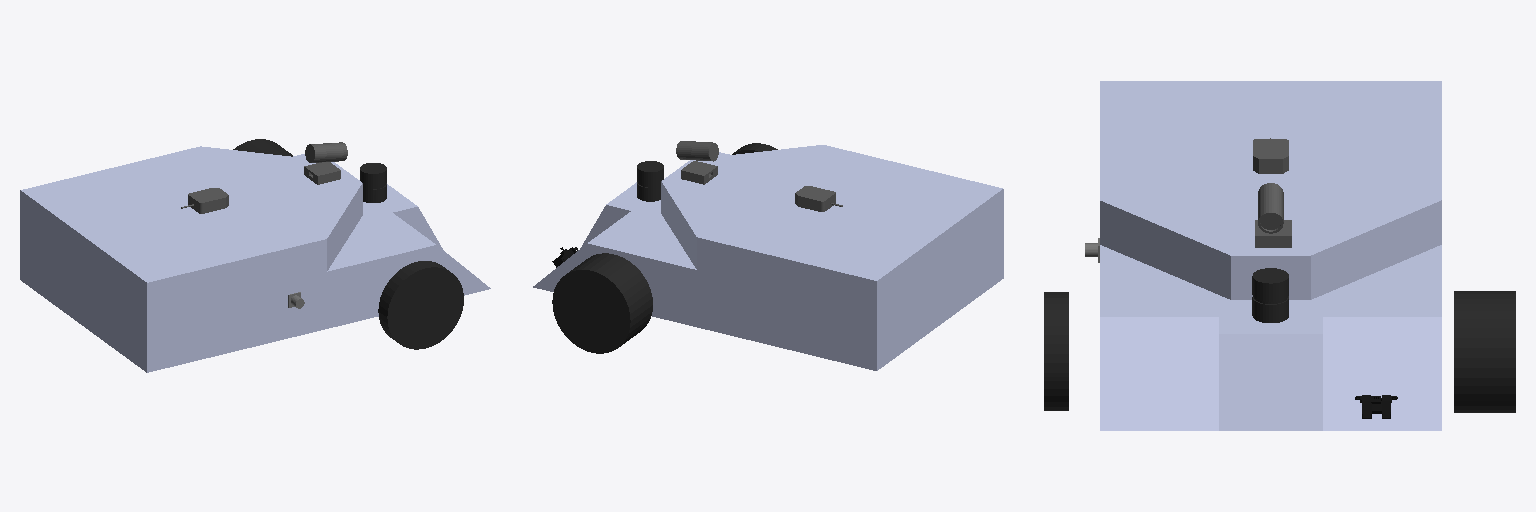
URDF robot description (alphabot):
<robot
  name="alphabot">
  <link
    name="base_link">
    <inertial>
      <origin
        xyz="-0.00724596998258442 -2.83661982791728E-14 -0.00575547955009657"
        rpy="0 0 0" />
      <mass
        value="23.2541399835625" />
      <inertia
        ixx="0.272059353016041"
        ixy="3.89546236250131E-17"
        ixz="-0.0285197731070182"
        iyy="0.523599571013095"
        iyz="4.52163085850978E-16"
        izz="0.722689233872" />
    </inertial>
    <visual>
      <origin
        xyz="0 0 0"
        rpy="0 0 0" />
      <geometry>
        <mesh
          filename="package://alpha_description/meshes/base_link.STL" />
      </geometry>
      <material
        name="">
        <color
          rgba="0.792156862745098 0.819607843137255 0.933333333333333 1" />
      </material>
    </visual>
    <collision>
      <origin
        xyz="0 0 0"
        rpy="0 0 0" />
      <geometry>
        <mesh
          filename="package://alpha_description/meshes/base_link.STL" />
      </geometry>
    </collision>
  </link>
  <link
    name="camera">
    <inertial>
      <origin
        xyz="5.5511E-17 -2.7756E-17 -0.025202"
        rpy="0 0 0" />
      <mass
        value="0.029152" />
      <inertia
        ixx="7.947E-06"
        ixy="-5.2096E-23"
        ixz="3.3774E-22"
        iyy="7.947E-06"
        iyz="-1.8529E-22"
        izz="2.6204E-06" />
    </inertial>
    <visual>
      <origin
        xyz="0 0 0"
        rpy="0 0 0" />
      <geometry>
        <mesh
          filename="package://alpha_description/meshes/camera.STL" />
      </geometry>
      <material
        name="">
        <color
          rgba="0.4 0.4 0.4 1" />
      </material>
    </visual>
    <collision>
      <origin
        xyz="0 0 0"
        rpy="0 0 0" />
      <geometry>
        <mesh
          filename="package://alpha_description/meshes/camera.STL" />
      </geometry>
    </collision>
  </link>
  <joint
    name="camera_joint"
    type="fixed">
    <origin
      xyz="0.17006355224945 0 0.103715762835769"
      rpy="-1.74532925199434 2.12996724370015E-15 -1.5707963267949" />
    <parent
      link="base_link" />
    <child
      link="camera" />
    <axis
      xyz="0 0 0" />
  </joint>
  <link
    name="lidar">
    <inertial>
      <origin
        xyz="-5.6272E-05 5.5511E-17 0"
        rpy="0 0 0" />
      <mass
        value="0.05174" />
      <inertia
        ixx="1.3731E-05"
        ixy="2.7236E-22"
        ixz="-2.0541E-22"
        iyy="1.3757E-05"
        iyz="-3.0077E-22"
        izz="9.3293E-06" />
    </inertial>
    <visual>
      <origin
        xyz="0 0 0"
        rpy="0 0 0" />
      <geometry>
        <mesh
          filename="package://alpha_description/meshes/lidar.STL" />
      </geometry>
      <material
        name="">
        <color
          rgba="0.2 0.2 0.2 1" />
      </material>
    </visual>
    <collision>
      <origin
        xyz="0 0 0"
        rpy="0 0 0" />
      <geometry>
        <mesh
          filename="package://alpha_description/meshes/lidar.STL" />
      </geometry>
    </collision>
  </link>
  <joint
    name="lidar_joint"
    type="fixed">
    <origin
      xyz="0.22225 0 0.0432816520819935"
      rpy="2.18547839493141E-15 4.37095678986282E-15 -1.22464679914726E-16" />
    <parent
      link="base_link" />
    <child
      link="lidar" />
    <axis
      xyz="0 0 0" />
  </joint>
  <link
    name="imu">
    <inertial>
      <origin
        xyz="0.00010302 0 0.0067256"
        rpy="0 0 0" />
      <mass
        value="0.01784" />
      <inertia
        ixx="2.6279E-06"
        ixy="1.0974E-22"
        ixz="2.344E-09"
        iyy="2.5418E-06"
        iyz="4.4706E-23"
        izz="4.5605E-06" />
    </inertial>
    <visual>
      <origin
        xyz="0 0 0"
        rpy="0 0 0" />
      <geometry>
        <mesh
          filename="package://alpha_description/meshes/imu.STL" />
      </geometry>
      <material
        name="">
        <color
          rgba="0.4 0.4 0.4 1" />
      </material>
    </visual>
    <collision>
      <origin
        xyz="0 0 0"
        rpy="0 0 0" />
      <geometry>
        <mesh
          filename="package://alpha_description/meshes/imu.STL" />
      </geometry>
    </collision>
  </link>
  <joint
    name="imu_joint"
    type="fixed">
    <origin
      xyz="0.141718091579384 0.00277145145873686 0.0698499999999994"
      rpy="2.18547839493141E-15 4.37095678986282E-15 9.55263162942396E-30" />
    <parent
      link="base_link" />
    <child
      link="imu" />
    <axis
      xyz="0 0 0" />
  </joint>
  <link
    name="gps">
    <inertial>
      <origin
        xyz="-0.00069629 -1.2961E-06 0.0084361"
        rpy="0 0 0" />
      <mass
        value="0.034682" />
      <inertia
        ixx="4.6607E-06"
        ixy="1.021E-09"
        ixz="4.562E-09"
        iyy="7.5891E-06"
        iyz="-1.7358E-13"
        izz="1.0608E-05" />
    </inertial>
    <visual>
      <origin
        xyz="0 0 0"
        rpy="0 0 0" />
      <geometry>
        <mesh
          filename="package://alpha_description/meshes/gps.STL" />
      </geometry>
      <material
        name="">
        <color
          rgba="0.4 0.4 0.4 1" />
      </material>
    </visual>
    <collision>
      <origin
        xyz="0 0 0"
        rpy="0 0 0" />
      <geometry>
        <mesh
          filename="package://alpha_description/meshes/gps.STL" />
      </geometry>
    </collision>
  </link>
  <joint
    name="gps_joint"
    type="fixed">
    <origin
      xyz="-0.0444499999999997 0 0.0698500000000002"
      rpy="2.18547839493141E-15 4.37095678986282E-15 9.35060506767106E-17" />
    <parent
      link="base_link" />
    <child
      link="gps" />
    <axis
      xyz="0 0 0" />
  </joint>
  <link
    name="l_sonar">
    <inertial>
      <origin
        xyz="-0.008662 0 0"
        rpy="0 0 0" />
      <mass
        value="0.0030797" />
      <inertia
        ixx="1.1108E-07"
        ixy="-2.3259E-22"
        ixz="-3.927E-23"
        iyy="1.2654E-07"
        iyz="-1.4468E-23"
        izz="1.2654E-07" />
    </inertial>
    <visual>
      <origin
        xyz="0 0 0"
        rpy="0 0 0" />
      <geometry>
        <mesh
          filename="package://alpha_description/meshes/l_sonar.STL" />
      </geometry>
      <material
        name="">
        <color
          rgba="0.5 0.5 0.5 1" />
      </material>
    </visual>
    <collision>
      <origin
        xyz="0 0 0"
        rpy="0 0 0" />
      <geometry>
        <mesh
          filename="package://alpha_description/meshes/l_sonar.STL" />
      </geometry>
    </collision>
  </link>
  <joint
    name="l_sonar_joint"
    type="fixed">
    <origin
      xyz="-0.0084119518851265 0.193399999999975 -0.0122434502790483"
      rpy="-2.61200588782342E-15 -5.67695973377457E-15 1.57079632679489" />
    <parent
      link="base_link" />
    <child
      link="l_sonar" />
    <axis
      xyz="0 0 0" />
  </joint>
  <link
    name="r_sonar">
    <inertial>
      <origin
        xyz="-0.008662 0 -6.9389E-18"
        rpy="0 0 0" />
      <mass
        value="0.0030797" />
      <inertia
        ixx="1.1108E-07"
        ixy="2.5348E-23"
        ixz="1.6082E-23"
        iyy="1.2654E-07"
        iyz="3.5863E-23"
        izz="1.2654E-07" />
    </inertial>
    <visual>
      <origin
        xyz="0 0 0"
        rpy="0 0 0" />
      <geometry>
        <mesh
          filename="package://alpha_description/meshes/r_sonar.STL" />
      </geometry>
      <material
        name="">
        <color
          rgba="0.5 0.5 0.5 1" />
      </material>
    </visual>
    <collision>
      <origin
        xyz="0 0 0"
        rpy="0 0 0" />
      <geometry>
        <mesh
          filename="package://alpha_description/meshes/r_sonar.STL" />
      </geometry>
    </collision>
  </link>
  <joint
    name="r_sonar_joint"
    type="fixed">
    <origin
      xyz="-0.0084119518851255 -0.193400000000028 -0.0122434502790499"
      rpy="6.10348722666658E-15 2.2872733366983E-15 -1.5707963267949" />
    <parent
      link="base_link" />
    <child
      link="r_sonar" />
    <axis
      xyz="0 0 0" />
  </joint>
  <link
    name="l_ir">
    <inertial>
      <origin
        xyz="-0.0078572 -0.00067482 0.00055715"
        rpy="0 0 0" />
      <mass
        value="0.0033937" />
      <inertia
        ixx="3.2589E-07"
        ixy="-2.4139E-10"
        ixz="-4.9755E-09"
        iyy="1.6137E-07"
        iyz="-1.8301E-11"
        izz="3.5725E-07" />
    </inertial>
    <visual>
      <origin
        xyz="0 0 0"
        rpy="0 0 0" />
      <geometry>
        <mesh
          filename="package://alpha_description/meshes/l_ir.STL" />
      </geometry>
      <material
        name="">
        <color
          rgba="0.1098 0.1098 0.1098 1" />
      </material>
    </visual>
    <collision>
      <origin
        xyz="0 0 0"
        rpy="0 0 0" />
      <geometry>
        <mesh
          filename="package://alpha_description/meshes/l_ir.STL" />
      </geometry>
    </collision>
  </link>
  <joint
    name="l_ir_joint"
    type="fixed">
    <origin
      xyz="0.302946086538764 0.110287499999972 -0.0527732475688207"
      rpy="3.29013534426822E-15 0.698131700797745 1.87006644586117E-15" />
    <parent
      link="base_link" />
    <child
      link="l_ir" />
    <axis
      xyz="0 0 0" />
  </joint>
  <link
    name="r_ir">
    <inertial>
      <origin
        xyz="-0.0078572 -0.00067482 0.00055715"
        rpy="0 0 0" />
      <mass
        value="0.0033937" />
      <inertia
        ixx="3.2589E-07"
        ixy="-2.4139E-10"
        ixz="-4.9755E-09"
        iyy="1.6137E-07"
        iyz="-1.8301E-11"
        izz="3.5725E-07" />
    </inertial>
    <visual>
      <origin
        xyz="0 0 0"
        rpy="0 0 0" />
      <geometry>
        <mesh
          filename="package://alpha_description/meshes/r_ir.STL" />
      </geometry>
      <material
        name="">
        <color
          rgba="0.1098 0.1098 0.1098 1" />
      </material>
    </visual>
    <collision>
      <origin
        xyz="0 0 0"
        rpy="0 0 0" />
      <geometry>
        <mesh
          filename="package://alpha_description/meshes/r_ir.STL" />
      </geometry>
    </collision>
  </link>
  <joint
    name="r_ir_joint"
    type="fixed">
    <origin
      xyz="0.302946086538764 -0.108787500000028 -0.0527732475688212"
      rpy="3.29013534426823E-15 0.698131700797745 1.87006644586116E-15" />
    <parent
      link="base_link" />
    <child
      link="r_ir" />
    <axis
      xyz="0 0 0" />
  </joint>
  <link
    name="fl_wheel">
    <inertial>
      <origin
        xyz="-2.7756E-17 -3.4694E-18 0.003499"
        rpy="0 0 0" />
      <mass
        value="0.63065" />
      <inertia
        ixx="0.00096136"
        ixy="-6.0396E-38"
        ixz="-3.0462E-20"
        iyy="0.00096136"
        iyz="4.4081E-36"
        izz="0.0014957" />
    </inertial>
    <visual>
      <origin
        xyz="0 0 0"
        rpy="0 0 0" />
      <geometry>
        <mesh
          filename="package://alpha_description/meshes/fl_wheel.STL" />
      </geometry>
      <material
        name="">
        <color
          rgba="0.2 0.2 0.2 1" />
      </material>
    </visual>
    <collision>
      <origin
        xyz="0 0 0"
        rpy="0 0 0" />
      <geometry>
        <mesh
          filename="package://alpha_description/meshes/fl_wheel.STL" />
      </geometry>
    </collision>
  </link>
  <joint
    name="fl_wheel_joint"
    type="continuous">
    <origin
      xyz="0.17145 0.222249999999972 -0.0444500000000003"
      rpy="1.57079632679489 -4.37095678986282E-15 -3.14159265358979" />
    <parent
      link="base_link" />
    <child
      link="fl_wheel" />
    <axis
      xyz="0 0 1" />
  </joint>
  <link
    name="fr_wheel">
    <inertial>
      <origin
        xyz="0 0 0.003499"
        rpy="0 0 0" />
      <mass
        value="0.63065" />
      <inertia
        ixx="0.00096136"
        ixy="5.3366E-20"
        ixz="-8.5909E-21"
        iyy="0.00096136"
        iyz="9.5501E-34"
        izz="0.0014957" />
    </inertial>
    <visual>
      <origin
        xyz="0 0 0"
        rpy="0 0 0" />
      <geometry>
        <mesh
          filename="package://alpha_description/meshes/fr_wheel.STL" />
      </geometry>
      <material
        name="">
        <color
          rgba="0.2 0.2 0.2 1" />
      </material>
    </visual>
    <collision>
      <origin
        xyz="0 0 0"
        rpy="0 0 0" />
      <geometry>
        <mesh
          filename="package://alpha_description/meshes/fr_wheel.STL" />
      </geometry>
    </collision>
  </link>
  <joint
    name="fr_wheel_joint"
    type="continuous">
    <origin
      xyz="0.17145 -0.222250000000029 -0.0444500000000012"
      rpy="1.5707963267949 2.59092834675909E-14 5.26759889920884E-17" />
    <parent
      link="base_link" />
    <child
      link="fr_wheel" />
    <axis
      xyz="0 0 1" />
  </joint>
  <link
    name="bl_wheel">
    <inertial>
      <origin
        xyz="-5.5511E-17 -3.4694E-18 0.003499"
        rpy="0 0 0" />
      <mass
        value="0.63065" />
      <inertia
        ixx="0.00096136"
        ixy="-2.0304E-37"
        ixz="4.3759E-21"
        iyy="0.00096136"
        iyz="7.3468E-36"
        izz="0.0014957" />
    </inertial>
    <visual>
      <origin
        xyz="0 0 0"
        rpy="0 0 0" />
      <geometry>
        <mesh
          filename="package://alpha_description/meshes/bl_wheel.STL" />
      </geometry>
      <material
        name="">
        <color
          rgba="0.2 0.2 0.2 1" />
      </material>
    </visual>
    <collision>
      <origin
        xyz="0 0 0"
        rpy="0 0 0" />
      <geometry>
        <mesh
          filename="package://alpha_description/meshes/bl_wheel.STL" />
      </geometry>
    </collision>
  </link>
  <joint
    name="bl_wheel_joint"
    type="continuous">
    <origin
      xyz="-0.17145 0.222249999999972 -0.0444499999999988"
      rpy="1.57079632679489 -4.37095678986282E-15 -3.14159265358979" />
    <parent
      link="base_link" />
    <child
      link="bl_wheel" />
    <axis
      xyz="0 0 1" />
  </joint>
  <link
    name="br_wheel">
    <inertial>
      <origin
        xyz="0 0 0.003499"
        rpy="0 0 0" />
      <mass
        value="0.63065" />
      <inertia
        ixx="0.00096136"
        ixy="1.4444E-34"
        ixz="1.3972E-20"
        iyy="0.00096136"
        iyz="6.4879E-36"
        izz="0.0014957" />
    </inertial>
    <visual>
      <origin
        xyz="0 0 0"
        rpy="0 0 0" />
      <geometry>
        <mesh
          filename="package://alpha_description/meshes/br_wheel.STL" />
      </geometry>
      <material
        name="">
        <color
          rgba="0.2 0.2 0.2 1" />
      </material>
    </visual>
    <collision>
      <origin
        xyz="0 0 0"
        rpy="0 0 0" />
      <geometry>
        <mesh
          filename="package://alpha_description/meshes/br_wheel.STL" />
      </geometry>
    </collision>
  </link>
  <joint
    name="br_wheel_joint"
    type="continuous">
    <origin
      xyz="-0.17145 -0.222250000000028 -0.0444499999999998"
      rpy="1.5707963267949 4.14891218493779E-15 9.06735794264922E-30" />
    <parent
      link="base_link" />
    <child
      link="br_wheel" />
    <axis
      xyz="0 0 1" />
  </joint>
</robot>

--- Render facts (derived) ---
The picture shows the robot from 3 angles, left to right: view 1: azimuth 30°, elevation 25°; view 2: azimuth 150°, elevation 25°; view 3: azimuth 270°, elevation 25°; orthographic projection.
Model alphabot with 13 links and 12 joints (4 continuous, 8 fixed), rooted at base_link, posed all joints at 0.
Visible links, largest first — view 1: base_link, fr_wheel, lidar, gps, camera, imu, fl_wheel; view 2: base_link, fl_wheel, lidar, gps, camera, imu; view 3: base_link, fl_wheel, fr_wheel, lidar, gps, camera, imu, l_ir.
Link boxes in pixels (left/top/right/bottom): base_link: left=20, top=146, right=490, bottom=372; fr_wheel: left=378, top=261, right=463, bottom=349; lidar: left=360, top=163, right=386, bottom=202; gps: left=181, top=188, right=228, bottom=213; camera: left=305, top=142, right=347, bottom=162; imu: left=304, top=162, right=340, bottom=184; fl_wheel: left=233, top=139, right=292, bottom=156; base_link: left=533, top=145, right=1003, bottom=370; fl_wheel: left=552, top=253, right=652, bottom=353; lidar: left=637, top=161, right=663, bottom=201; gps: left=795, top=186, right=842, bottom=211; camera: left=676, top=141, right=718, bottom=161; imu: left=681, top=161, right=717, bottom=184; base_link: left=1100, top=81, right=1441, bottom=430; fl_wheel: left=1454, top=291, right=1515, bottom=412; fr_wheel: left=1044, top=292, right=1068, bottom=410; lidar: left=1252, top=268, right=1288, bottom=322; gps: left=1253, top=138, right=1288, bottom=173; camera: left=1258, top=183, right=1283, bottom=233; imu: left=1255, top=220, right=1291, bottom=247; l_ir: left=1355, top=395, right=1397, bottom=418.
Bounding box of the posed robot: 0.5588 × 0.489 × 0.2335 m (x, y, z).
9 mesh visuals loaded from 13 distinct referenced files (9 binary STL); not drawn: 4 (reference not matched to a file when rendering).
